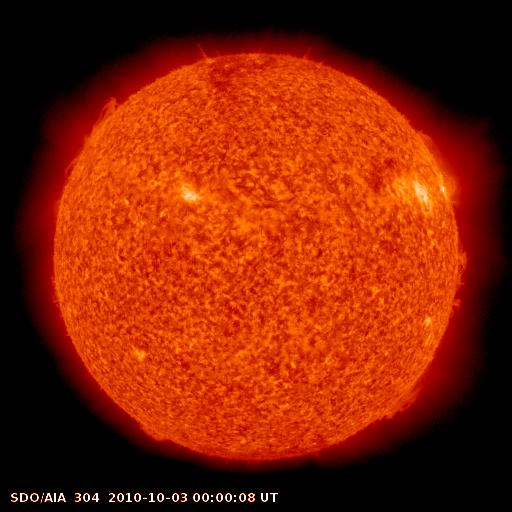prominence: (61, 91, 128, 177), (372, 375, 432, 426), (446, 239, 474, 319), (129, 412, 180, 451), (179, 32, 230, 67), (416, 125, 454, 171)
